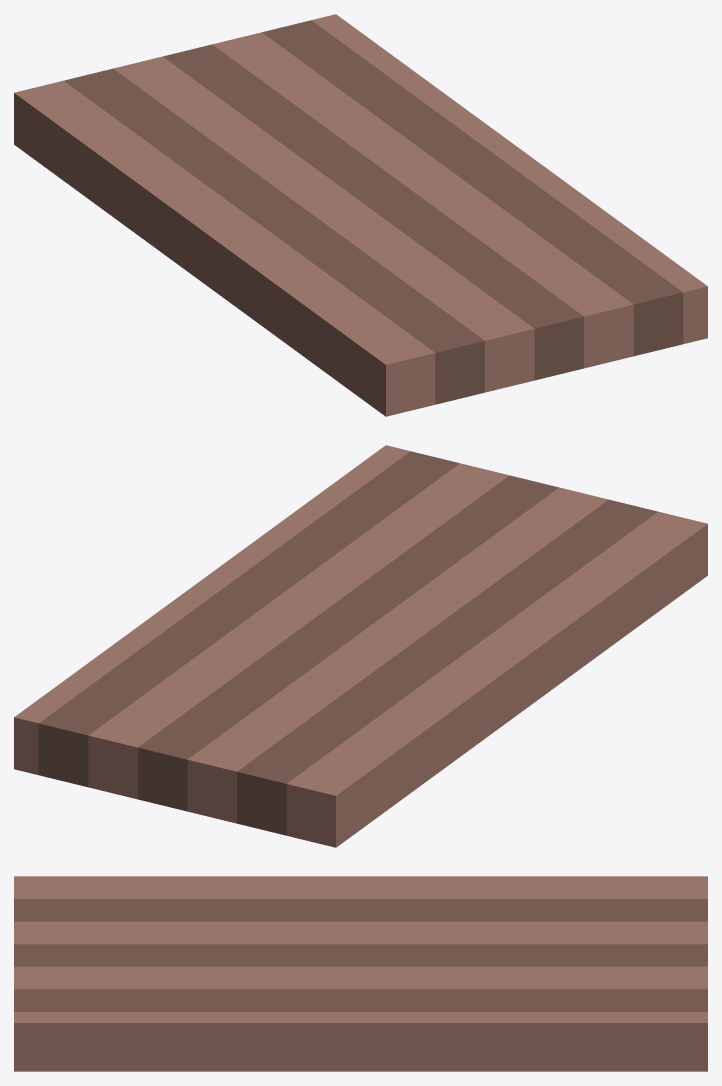
File: alfombra_pequena_01.glb
3 renders of one model, top to bottom at view 1: azimuth 30°, elevation 25°; view 2: azimuth 150°, elevation 25°; view 3: azimuth 270°, elevation 25°, orthographic. The views are drawn at different scales.
Visible parts, largest first — view 1: alfombra_pequena; view 2: alfombra_pequena; view 3: alfombra_pequena.
Part boxes in pixels (left/top/right/bottom): alfombra_pequena: left=14, top=14, right=707, bottom=416; alfombra_pequena: left=14, top=445, right=707, bottom=847; alfombra_pequena: left=14, top=876, right=707, bottom=1071.
Size of the model in its own units: 1 by 0.1538 by 2.
